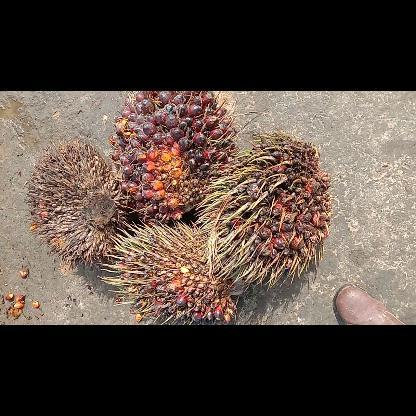Kurang masak: (200, 132, 334, 288)
TBS abnormal: (100, 222, 244, 324), (23, 138, 128, 270)
Terlalu masak: (109, 91, 239, 227)
